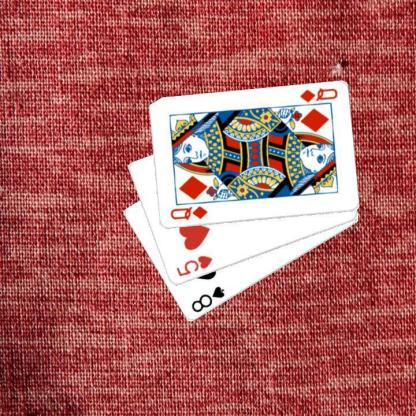5H: (174, 253, 214, 278)
8S: (188, 284, 226, 314)
QD: (297, 86, 339, 104), (168, 204, 209, 222)
